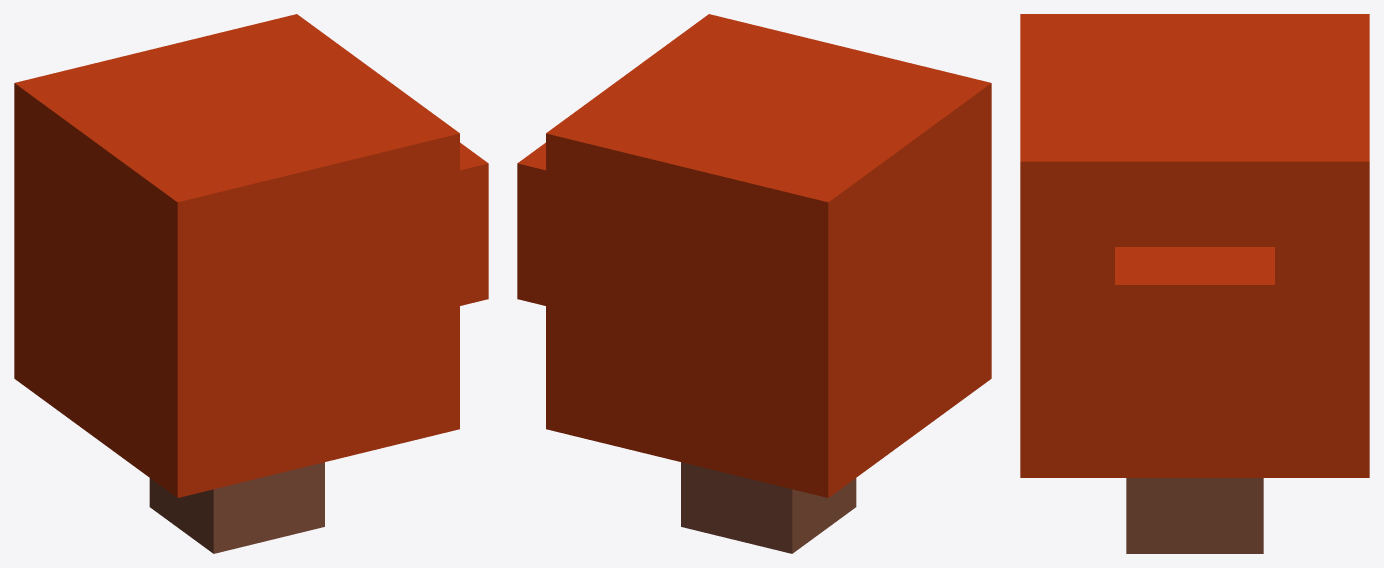
The model's file is Bush_9_summer_red_mat.fbx.
3 renders of one model, left to right at view 1: azimuth 30°, elevation 25°; view 2: azimuth 150°, elevation 25°; view 3: azimuth 270°, elevation 25°, orthographic. The views are drawn at different scales.
Parts seen in each view (by area): view 1: Bush_9_summer_red_mat; view 2: Bush_9_summer_red_mat; view 3: Bush_9_summer_red_mat.
Part boxes in pixels (x1,y1,x2,y2): Bush_9_summer_red_mat: (14,14,488,553); Bush_9_summer_red_mat: (517,14,991,553); Bush_9_summer_red_mat: (1020,14,1369,553).
Bounding box in the file's own units: 48.65 × 53.49 × 38.7.
